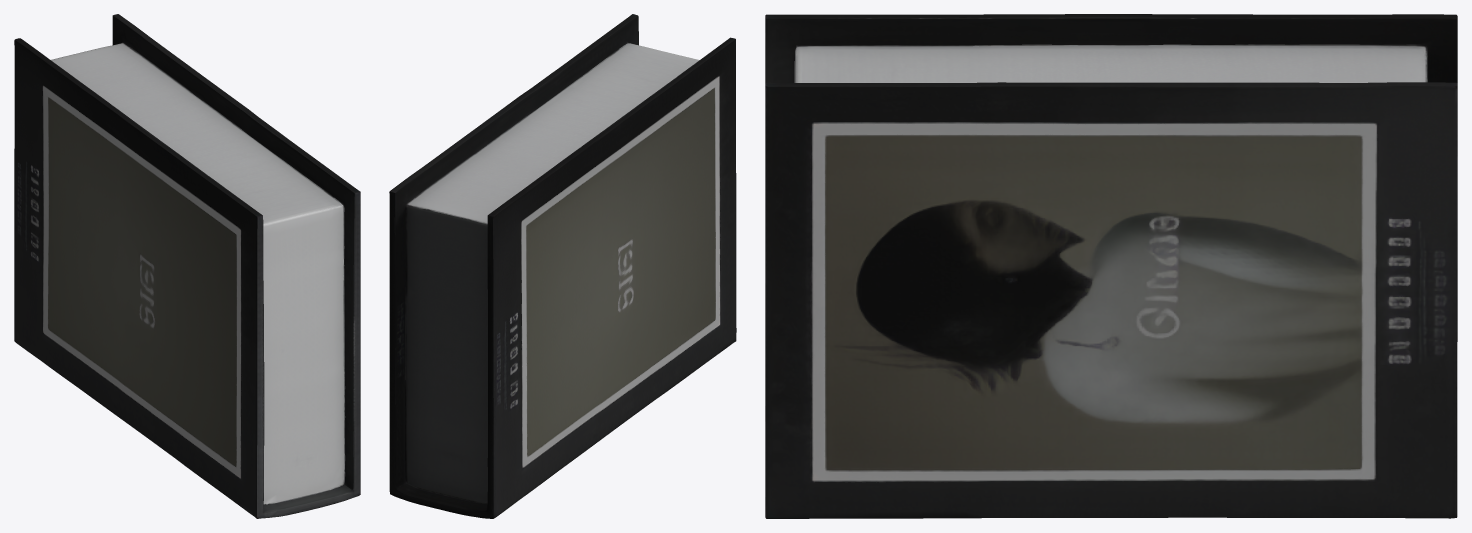
The model's file is book0.obj.
3 views of the same model, side by side, from view 1: azimuth 30°, elevation 25°; view 2: azimuth 150°, elevation 25°; view 3: azimuth 270°, elevation 25° (orthographic). The views are drawn at different scales.
Visible parts, largest first — view 1: geometry_0; view 2: geometry_0; view 3: geometry_0.
Part boxes in pixels (x1=…): geometry_0: x1=14, y1=14, x2=360, y2=518; geometry_0: x1=389, y1=14, x2=736, y2=518; geometry_0: x1=765, y1=14, x2=1457, y2=518.
Size of the model in its own units: 0.0513 by 0.1441 by 0.2065.
Materials: 1 (1 with a texture image).
